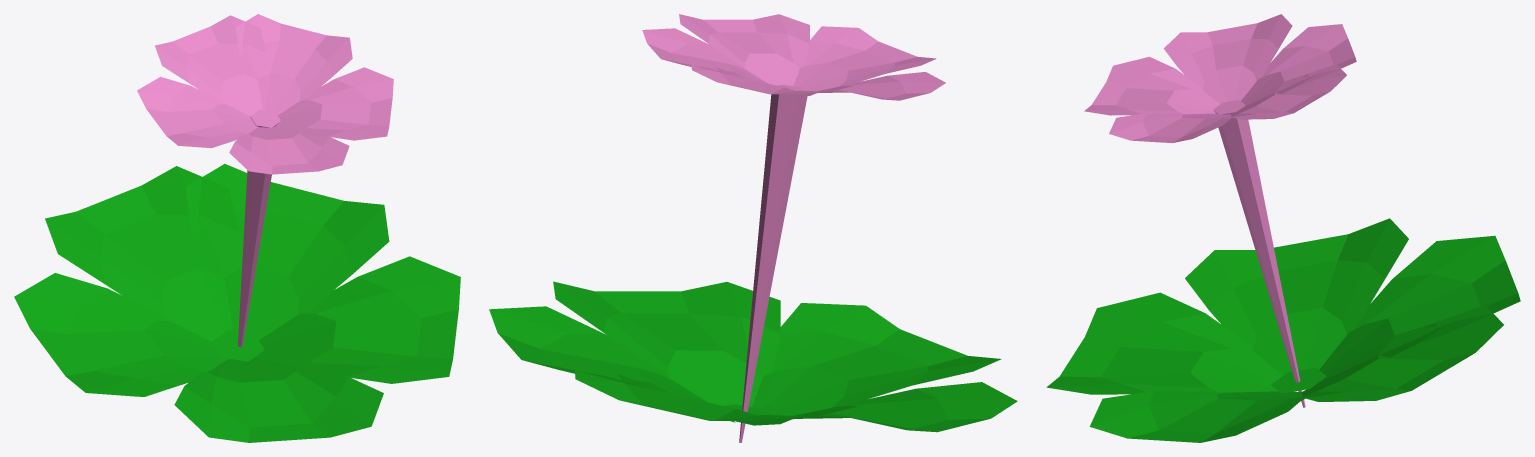
The model's file is flower.fbx.
The picture shows the model from 3 angles, left to right: view 1: azimuth 30°, elevation 25°; view 2: azimuth 150°, elevation 25°; view 3: azimuth 270°, elevation 25°; orthographic projection. The views are drawn at different scales.
Parts seen in each view (by area): view 1: grass.001; view 2: grass.001; view 3: grass.001.
Part boxes in pixels (x1,y1,x2,y2): grass.001: [14, 14, 460, 442]; grass.001: [489, 14, 1017, 442]; grass.001: [1046, 14, 1520, 442].
Size of the model in its own units: 11.24 by 9.21 by 11.17.
